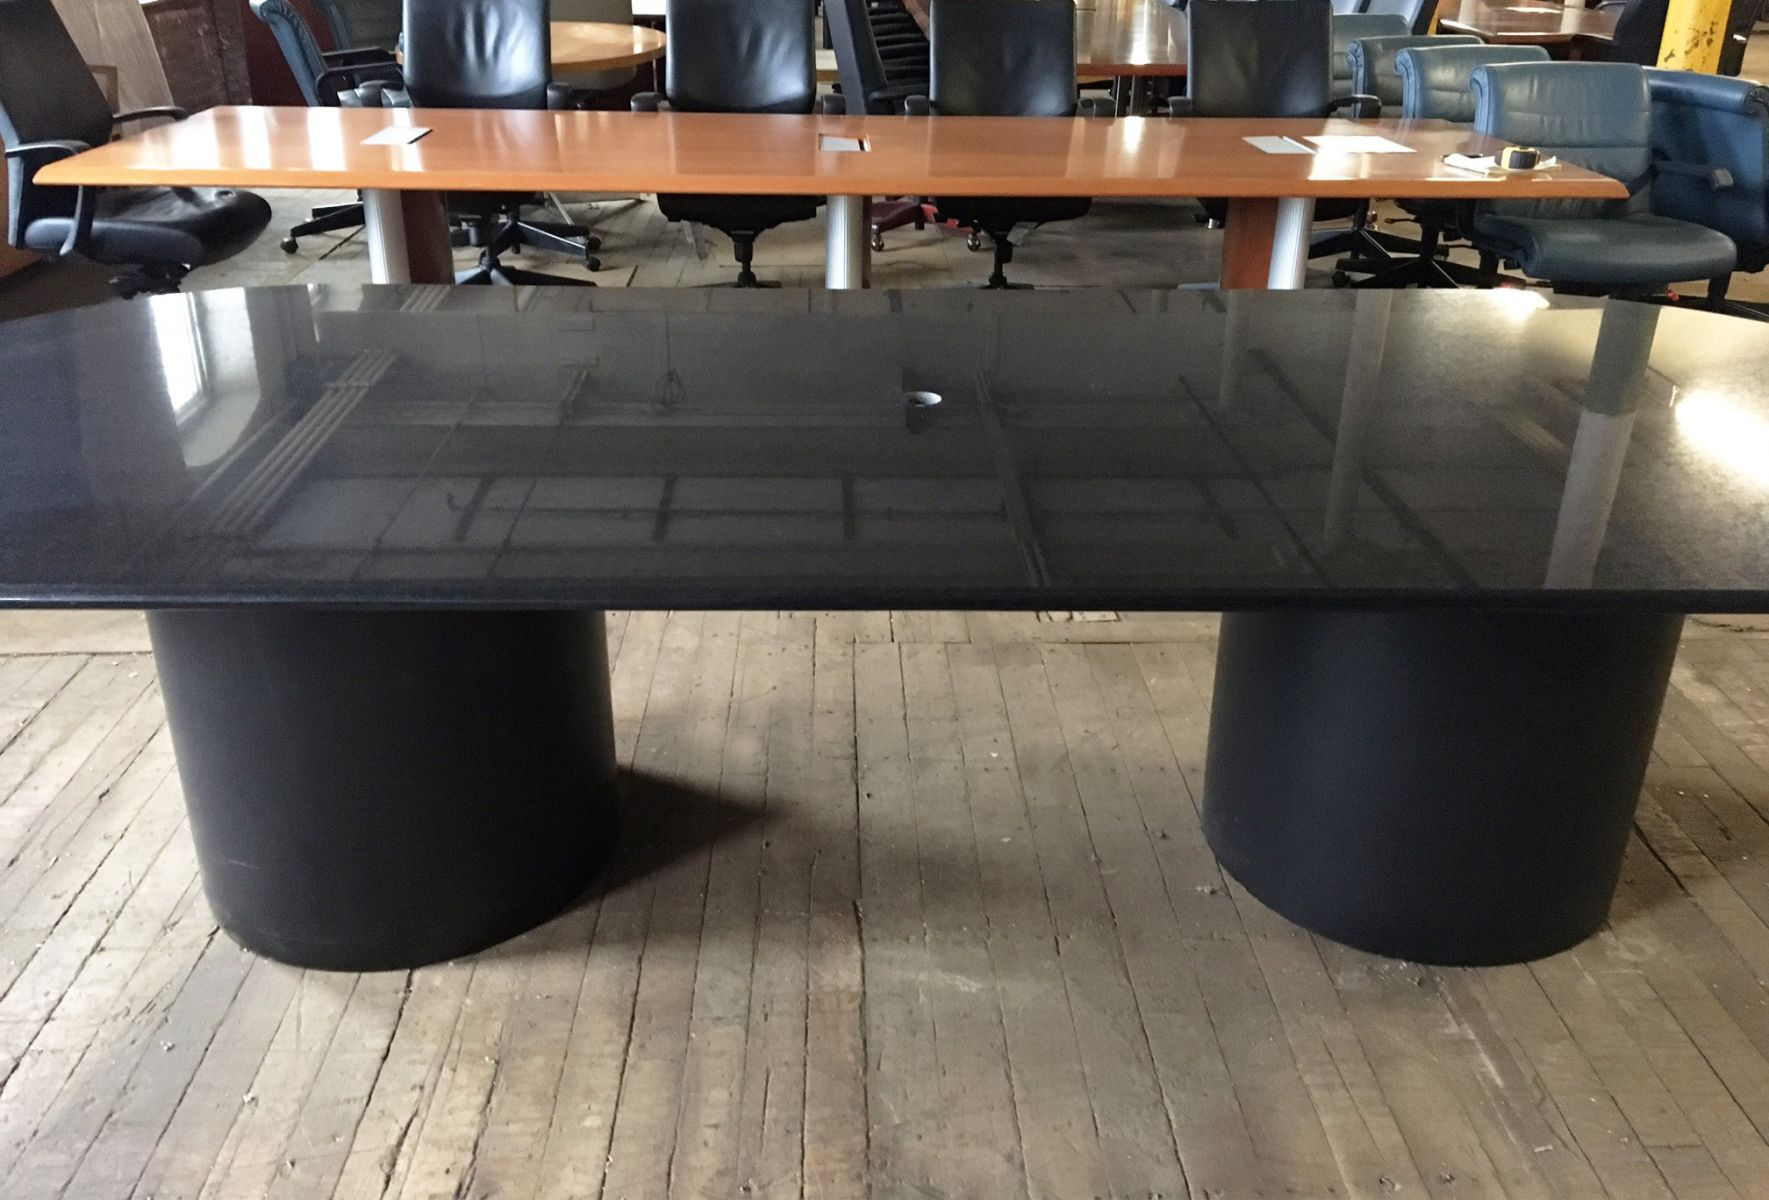conference_table: (10, 285, 1769, 975), (35, 104, 1629, 293)
